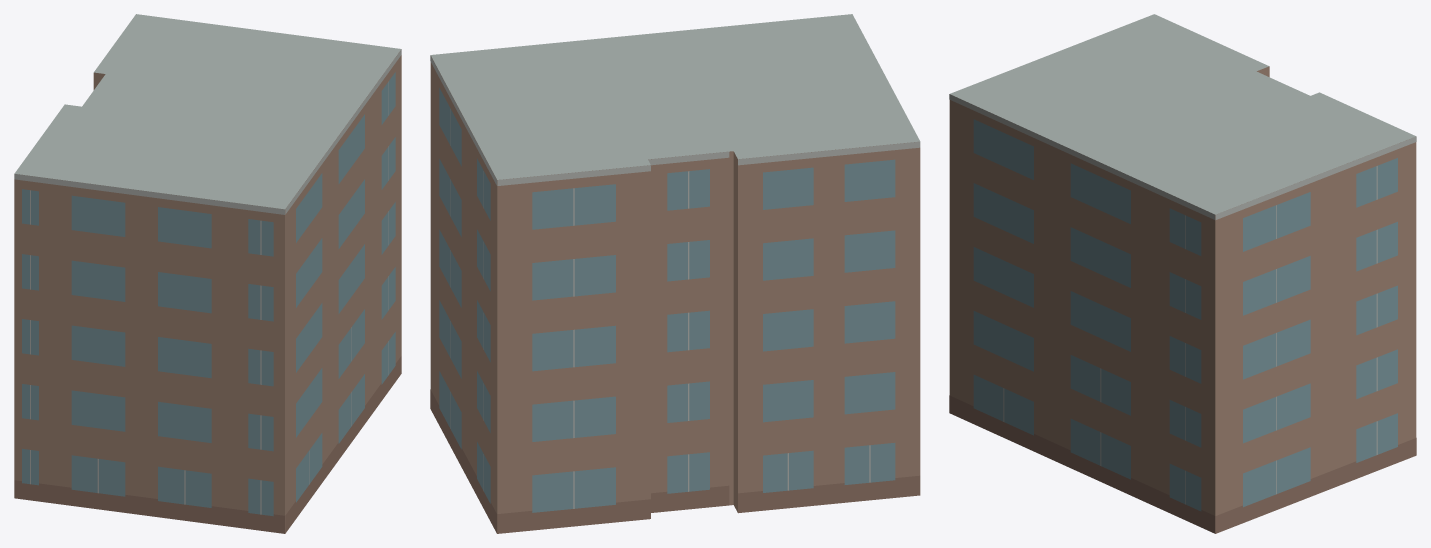
The model's file is survey-upis-32618649.glb.
The picture shows the model from 3 angles, left to right: view 1: azimuth 30°, elevation 25°; view 2: azimuth 150°, elevation 25°; view 3: azimuth 270°, elevation 25°; orthographic projection. The views are drawn at different scales.
Visible parts, largest first — view 1: survey-upis-32618649.tmp; view 2: survey-upis-32618649.tmp; view 3: survey-upis-32618649.tmp.
Part boxes in pixels (x1,y1,x2,y2): survey-upis-32618649.tmp: (14, 14, 401, 533); survey-upis-32618649.tmp: (430, 14, 920, 533); survey-upis-32618649.tmp: (949, 14, 1416, 533).
Size of the model in its own units: 18.89 by 14 by 18.57.
